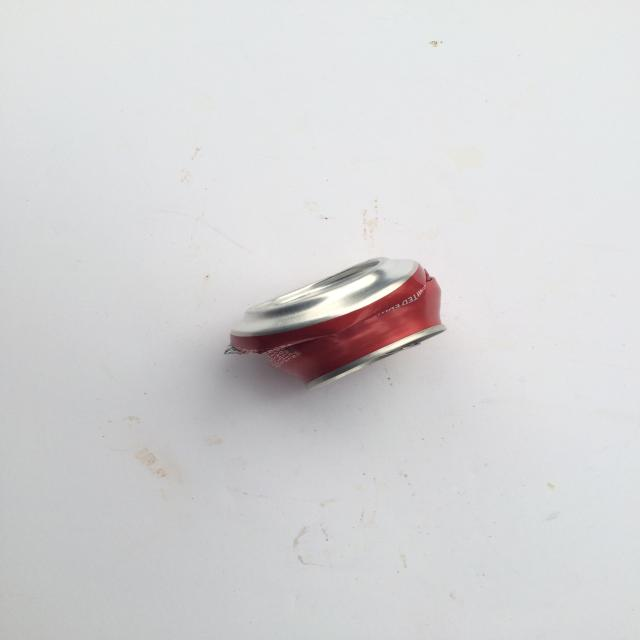metal: (224, 255, 447, 391)
